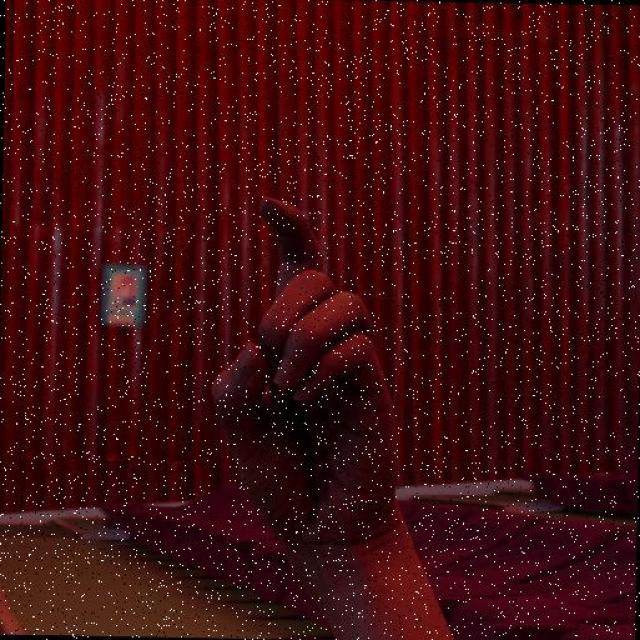X: (201, 193, 444, 585)
